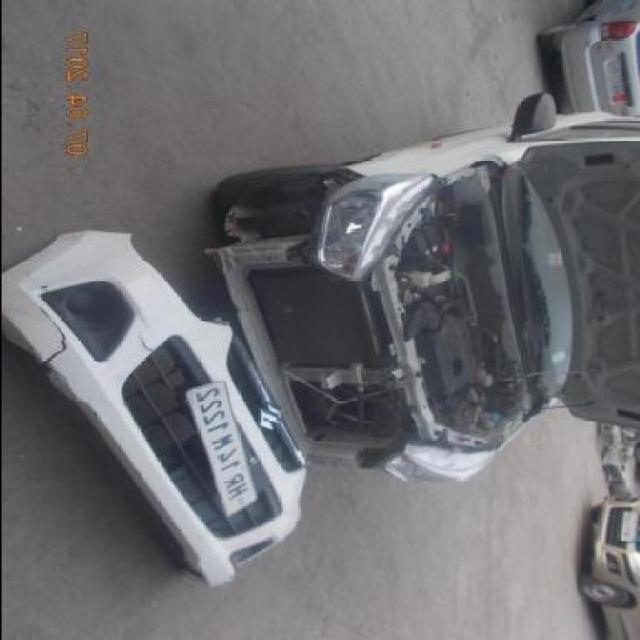damage: (219, 173, 418, 473)
